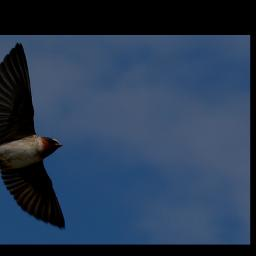Swallow: (0, 41, 66, 229)
